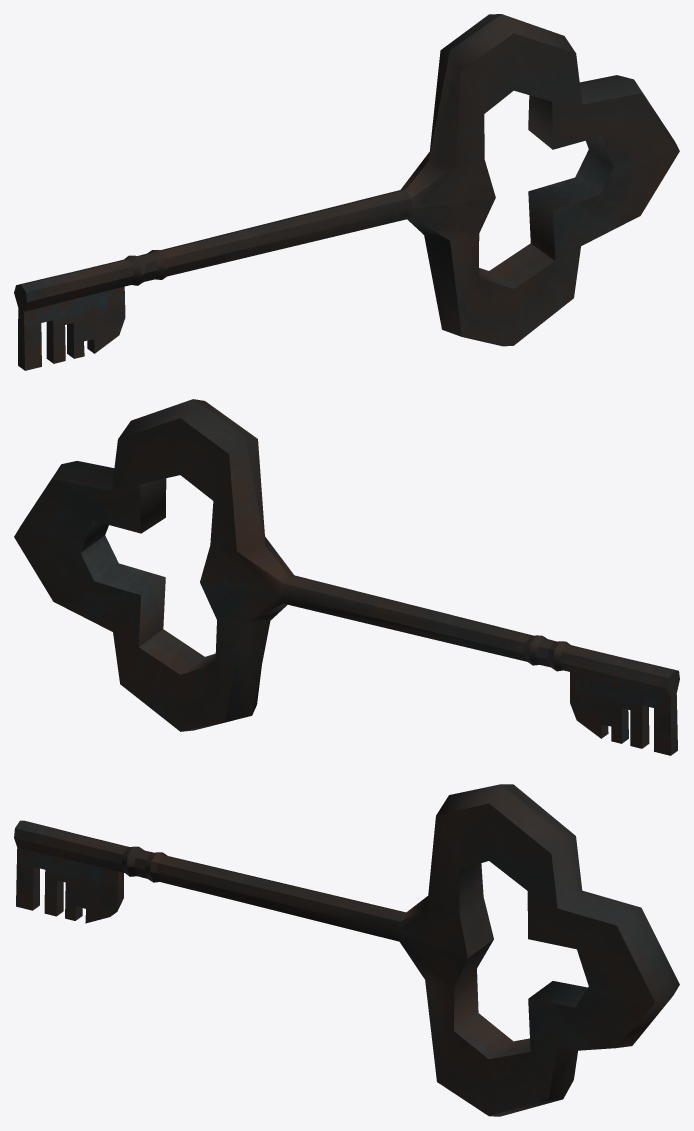
File: key 1.fbx
3 views of the same model, one above another, from view 1: azimuth 30°, elevation 25°; view 2: azimuth 150°, elevation 25°; view 3: azimuth 330°, elevation 25° (orthographic).
Parts seen in each view (by area): view 1: key; view 2: key; view 3: key.
Part boxes in pixels (box(x1,y1,x2,y2)): key: box(14, 14, 679, 370); key: box(14, 399, 679, 755); key: box(14, 784, 679, 1116).
Bounding box in the file's own units: 35.76 × 17.35 × 2.49.
